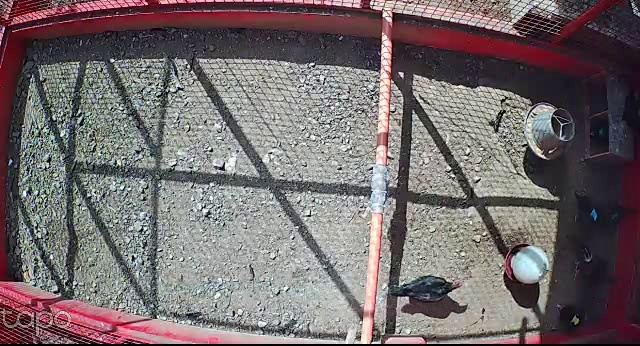Chicken: (571, 187, 626, 241), (387, 275, 461, 305), (546, 298, 586, 338)
Drinker: (503, 243, 551, 286)
Feeder: (525, 103, 579, 159)
Rooster: (563, 237, 624, 292)
Saddle_Color_Blue: (591, 210, 601, 221)
Saddle_Color_Yellow: (572, 315, 580, 324)
